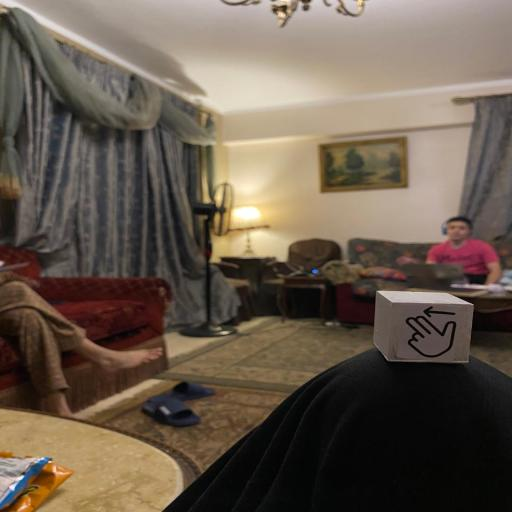LeftSwipe: (372, 291, 474, 363)
